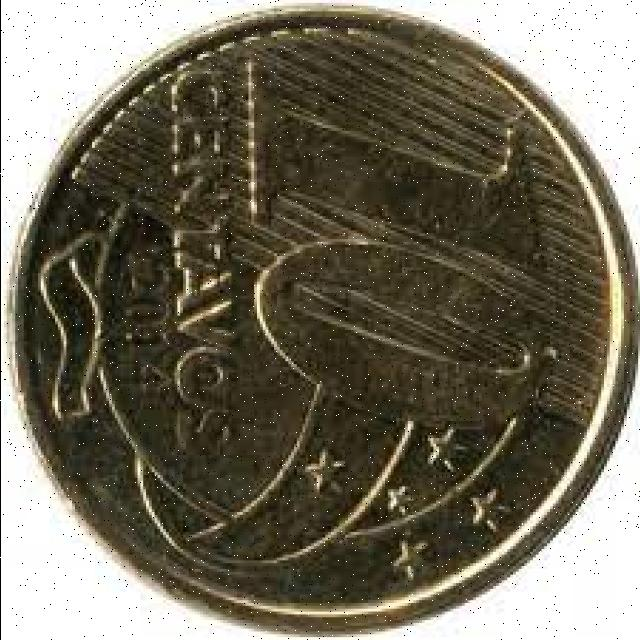10 cent: (41, 41, 627, 614)
